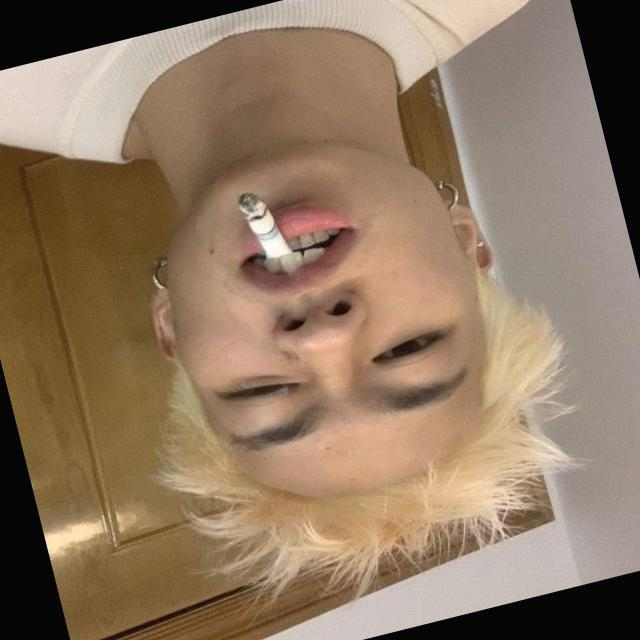cigarette: (220, 170, 312, 287)
